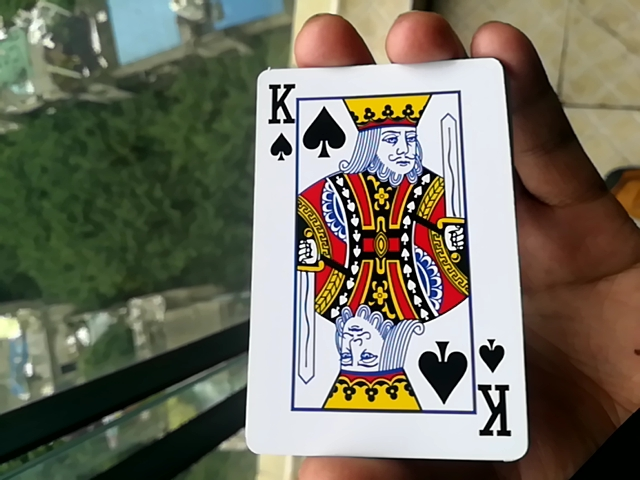ht k: (243, 60, 522, 466)
